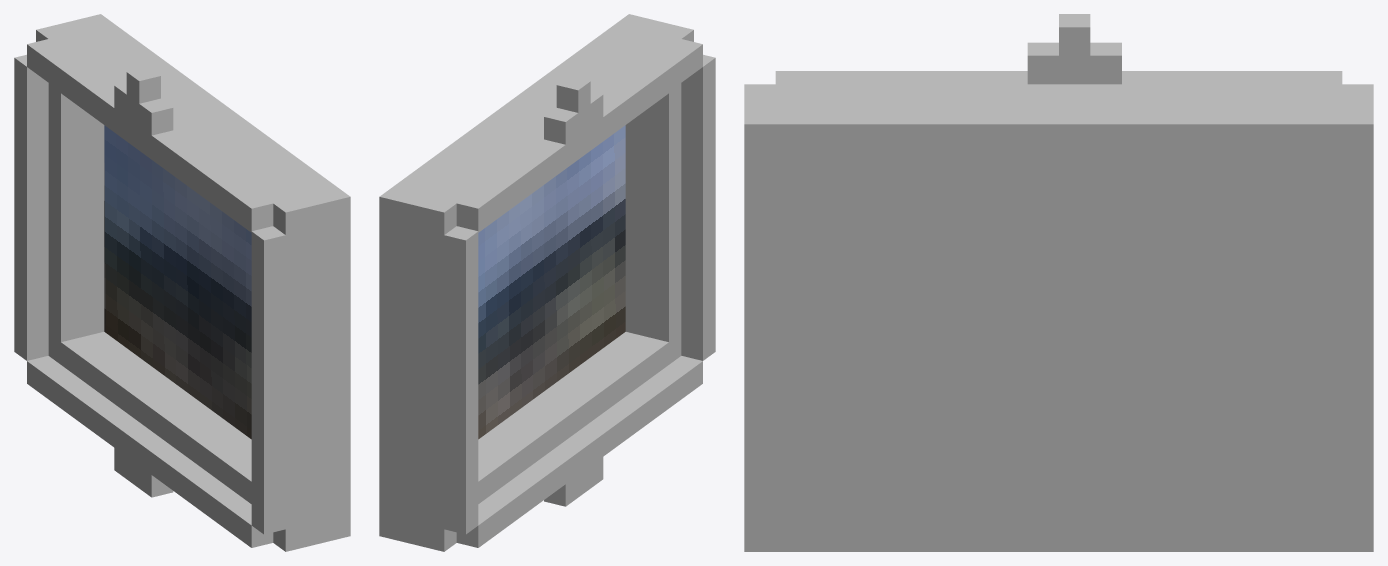
The model's file is Frame.fbx.
3 views of the same model, side by side, from view 1: azimuth 30°, elevation 25°; view 2: azimuth 150°, elevation 25°; view 3: azimuth 270°, elevation 25° (orthographic). The views are drawn at different scales.
Parts seen in each view (by area): view 1: ObjObject; view 2: ObjObject; view 3: ObjObject.
Part boxes in pixels (x1,y1,x2,y2): ObjObject: (14,14,350,551); ObjObject: (379,14,715,551); ObjObject: (744,14,1373,551).
Bounding box in the file's own units: 40 × 180 × 200.
